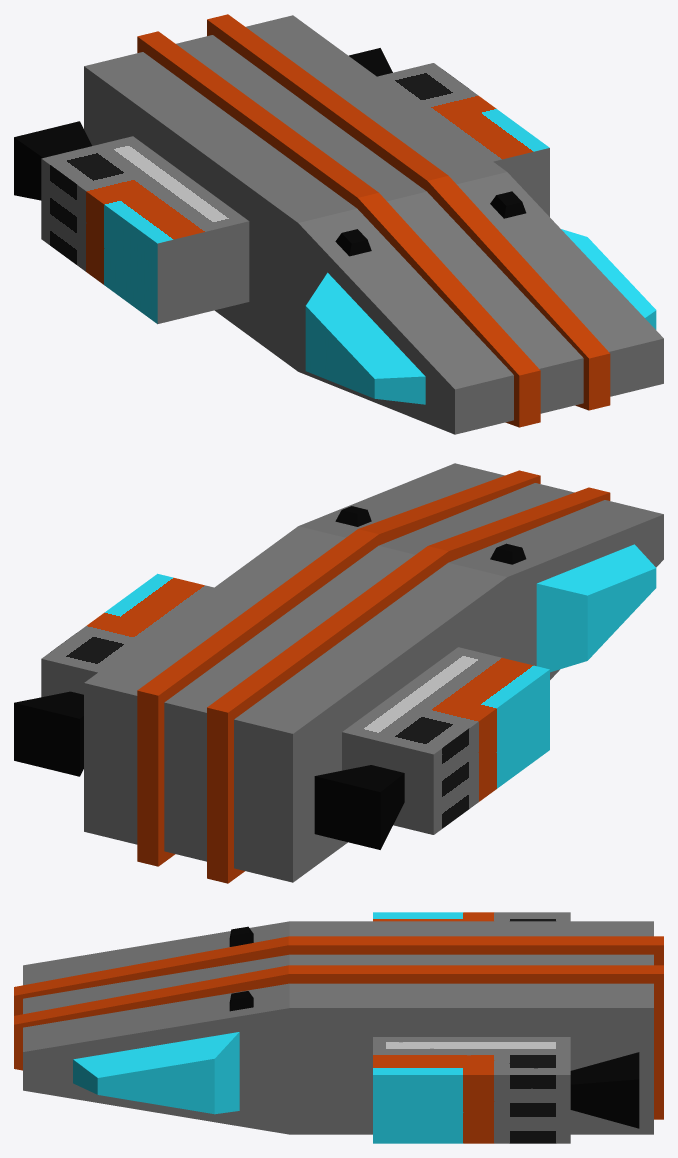
The model's file is result.gltf.
The picture shows the model from 3 angles, top to bottom: view 1: azimuth 30°, elevation 25°; view 2: azimuth 150°, elevation 25°; view 3: azimuth 270°, elevation 25°; orthographic projection. The views are drawn at different scales.
Visible parts, largest first — view 1: Cube; view 2: Cube; view 3: Cube.
Part boxes in pixels (left/top/right/bottom): Cube: left=14, top=14, right=663, bottom=434; Cube: left=14, top=463, right=663, bottom=883; Cube: left=14, top=912, right=663, bottom=1143.
Size of the model in its own units: 2.12 by 0.8808 by 3.57.
1 material, 1 textured.
